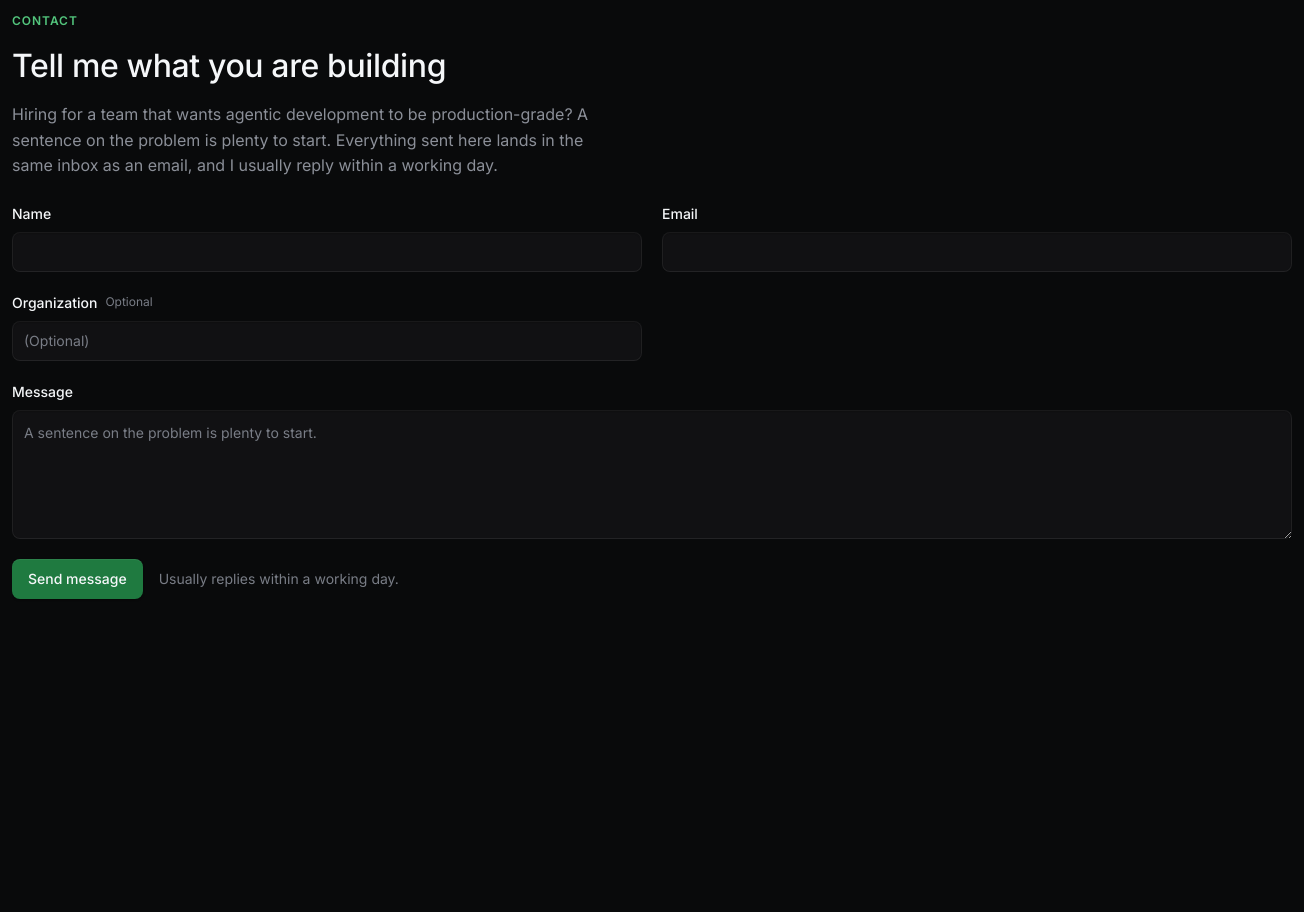
Test case: ContactForm › blocks submission and shows an inline error for an invalid email (AC-5)
The image size is (1304, 912).
In the field labelled "Name": point(327, 252) [12,232,642,272], type "Test McLovin"
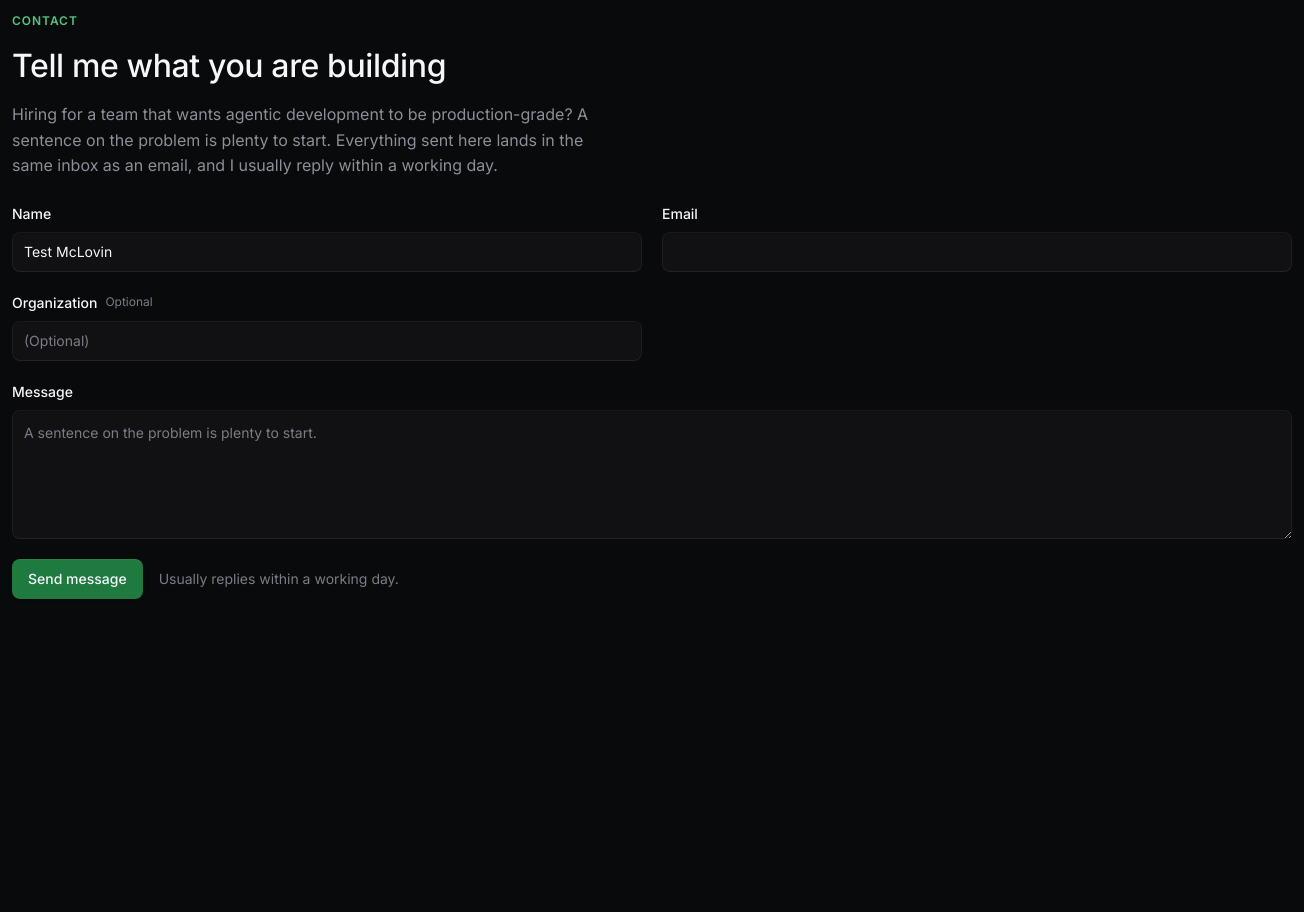
In the field labelled "Email": point(977, 252) [662,232,1292,272], type "dana@acme"
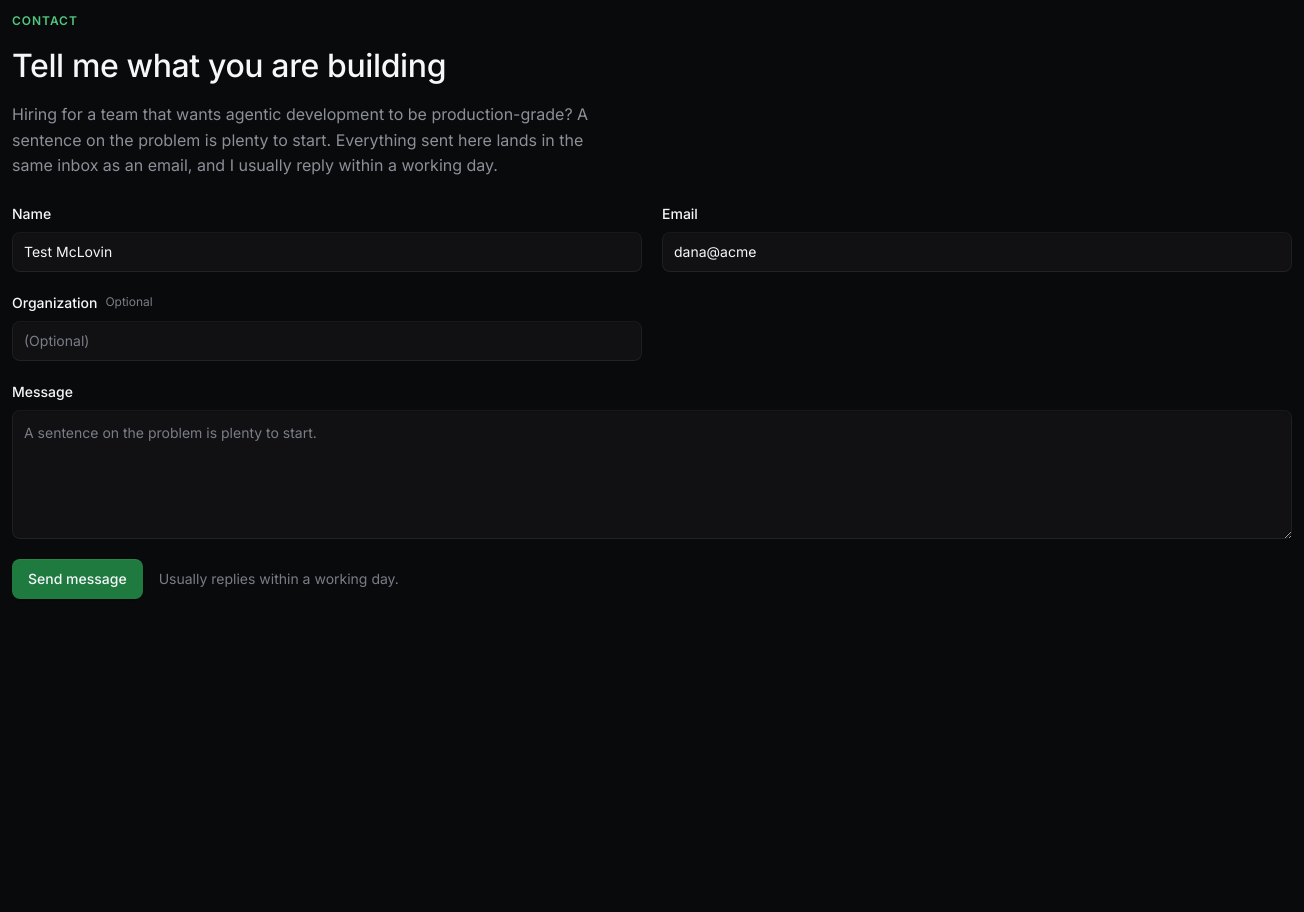
In the field labelled "Organization Optional": point(327, 341) [12,321,642,361], type "Acme Logistics"
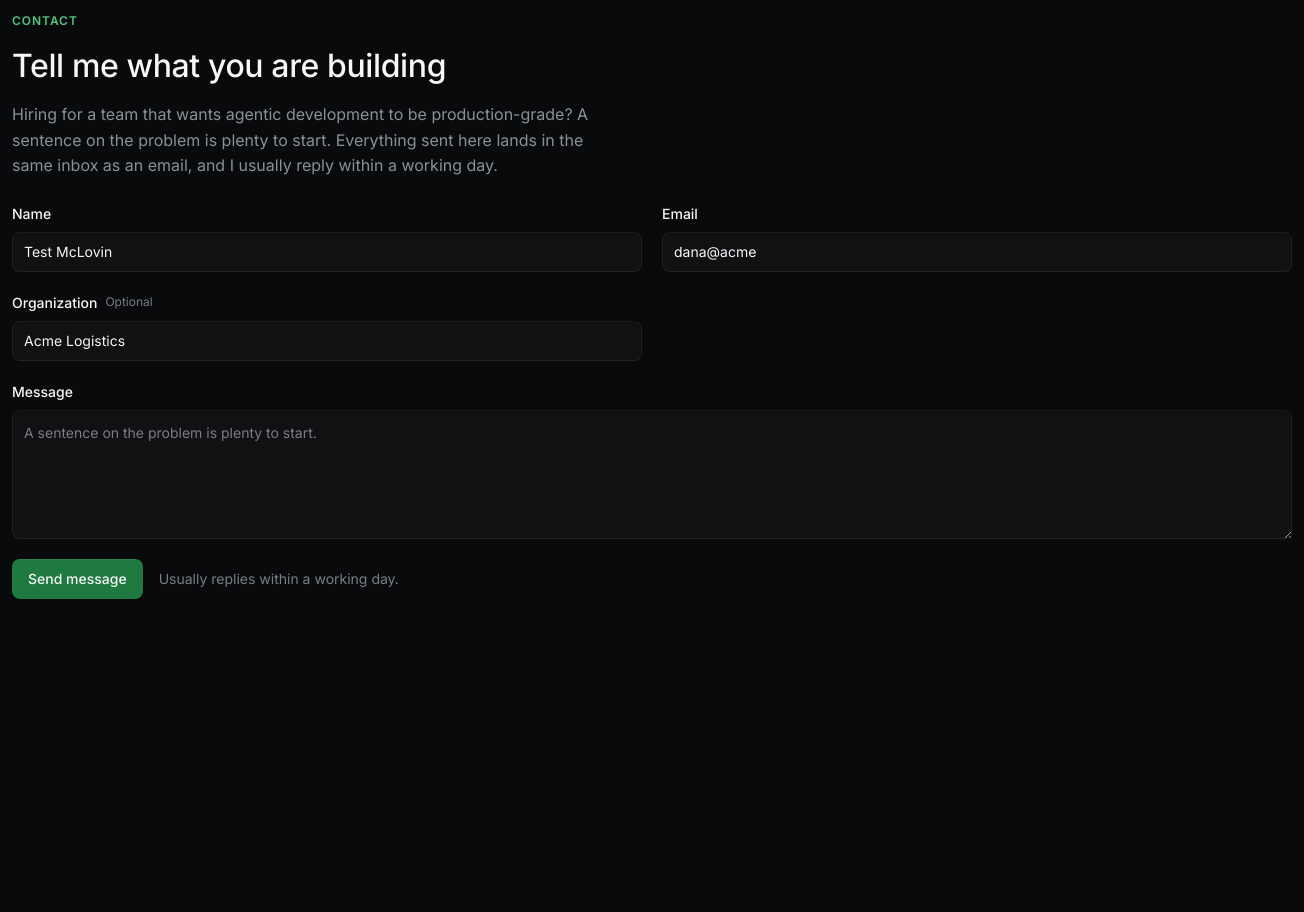
In the text box labelled "Message": point(652, 474) [12,410,1292,539], type "Hello, this is a test message."
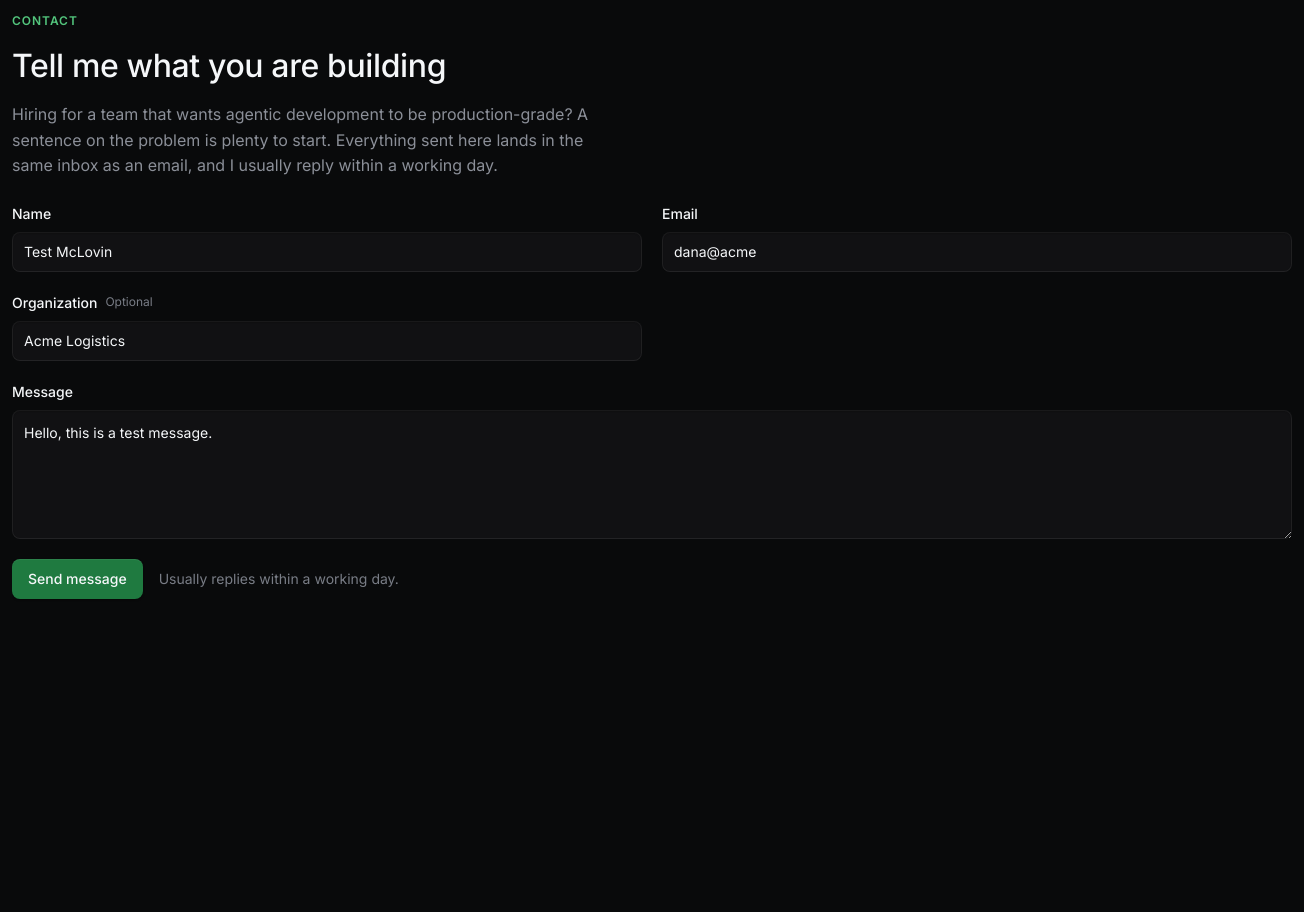
Click the button "Send message": point(77, 579) [12,559,143,599]
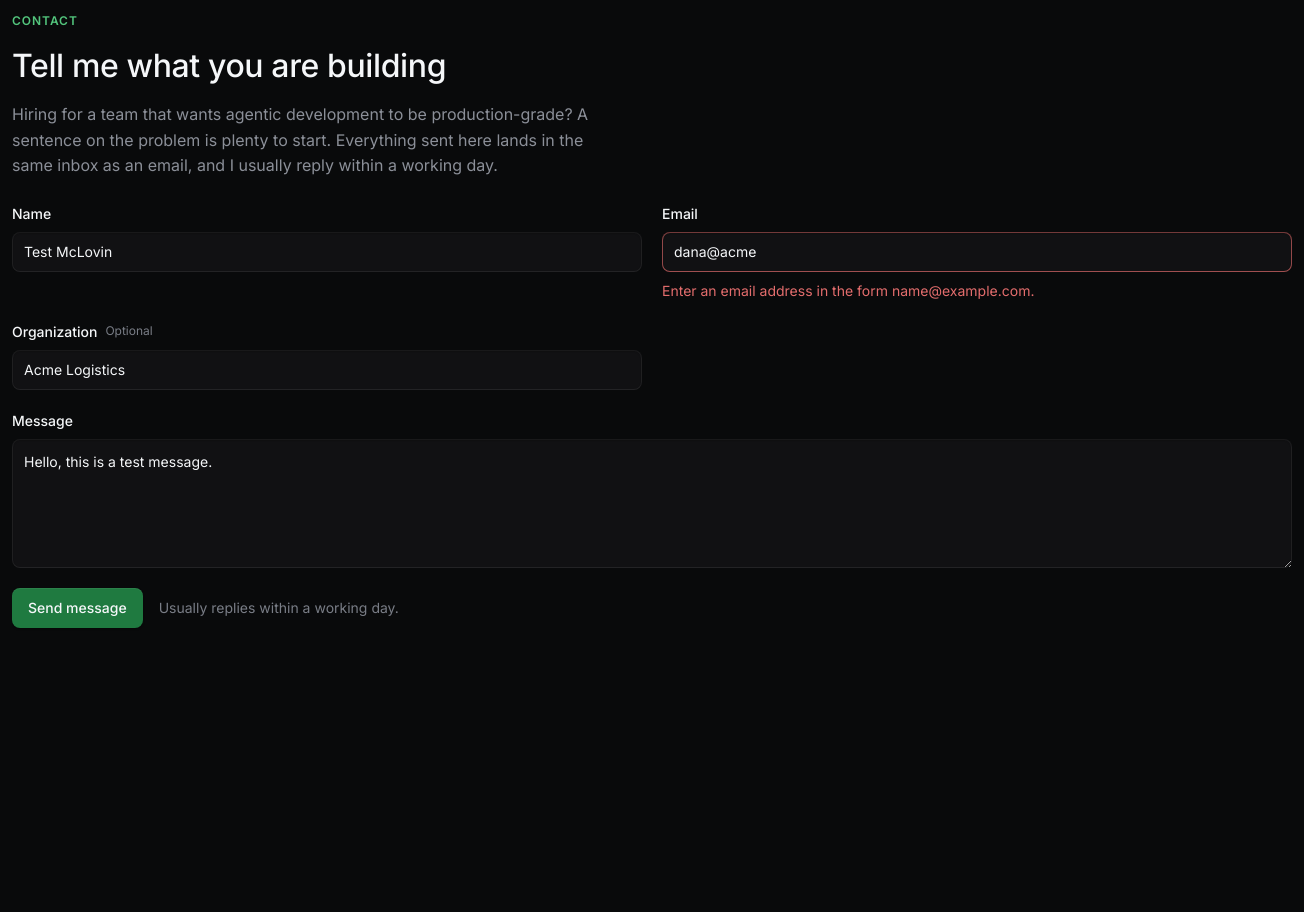
Expected: the text "Enter an email address in the form name@example.com." is shown, [662,282,1034,299]
